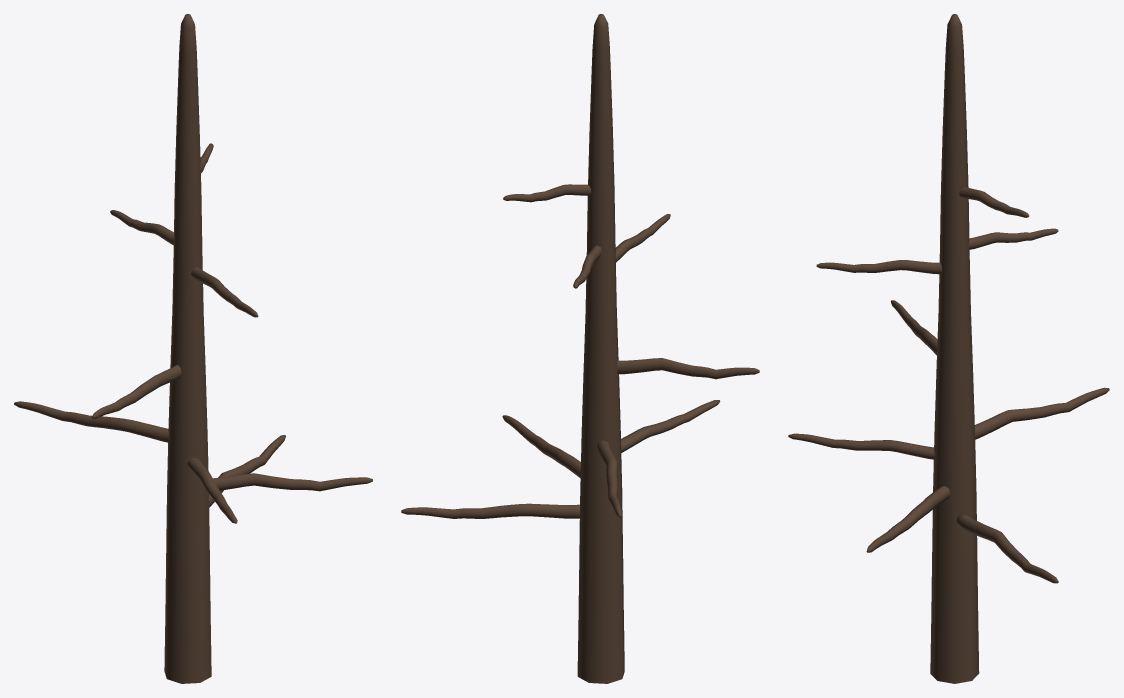
File: dead-tree-2.glb
The picture shows the model from 3 angles, left to right: view 1: azimuth 30°, elevation 25°; view 2: azimuth 150°, elevation 25°; view 3: azimuth 270°, elevation 25°; orthographic projection.
Visible parts, largest first — view 1: Cylinder, Cylinder.004, Cylinder.006, Cylinder.002, Cylinder.007, Cylinder.001, Cylinder.005, Cylinder.008; view 2: Cylinder, Cylinder.005, Cylinder.002, Cylinder.007, Cylinder.006, Cylinder.004, Cylinder.003, Cylinder.001; view 3: Cylinder, Cylinder.004, Cylinder.007, Cylinder.005, Cylinder.001, Cylinder.006, Cylinder.008, Cylinder.003, Cylinder.002.
Boxes of the visible parts, x1,y1,x2,y2 form: Cylinder: (164, 14, 211, 683); Cylinder.004: (14, 401, 168, 442); Cylinder.006: (213, 473, 372, 491); Cylinder.002: (92, 365, 181, 418); Cylinder.007: (187, 457, 237, 523); Cylinder.001: (191, 267, 258, 317); Cylinder.005: (209, 435, 285, 507); Cylinder.008: (110, 210, 173, 245); Cylinder: (577, 14, 624, 683); Cylinder.005: (401, 503, 579, 518); Cylinder.002: (617, 358, 759, 379); Cylinder.007: (621, 400, 720, 452); Cylinder.006: (502, 415, 580, 478); Cylinder.004: (597, 440, 622, 517); Cylinder.003: (503, 184, 591, 202); Cylinder.001: (615, 214, 670, 262); Cylinder: (930, 14, 979, 683); Cylinder.004: (975, 387, 1109, 439); Cylinder.007: (788, 433, 934, 459); Cylinder.005: (956, 513, 1058, 583); Cylinder.001: (816, 260, 942, 274); Cylinder.006: (866, 486, 950, 552); Cylinder.008: (968, 228, 1058, 249); Cylinder.003: (959, 187, 1029, 217); Cylinder.002: (890, 300, 937, 355).
Size of the model in its own units: 0.8162 by 1.86 by 0.8227.
